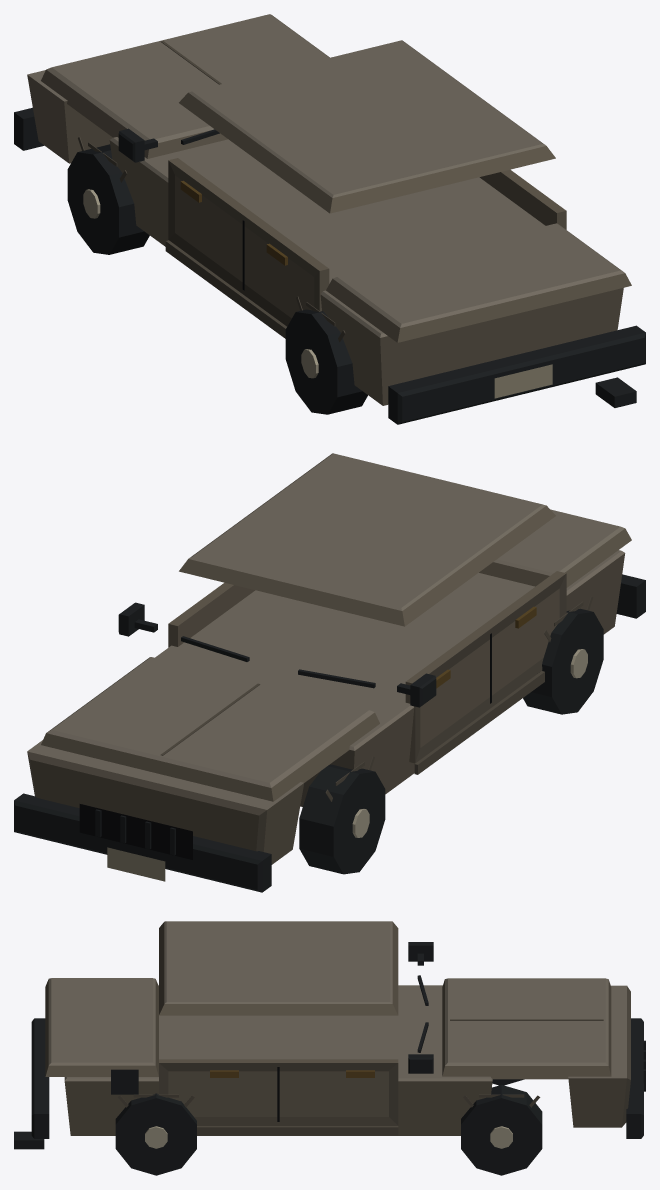
Rendered from lp_player_car_shell.glb.
3 renders of one model, top to bottom at view 1: azimuth 30°, elevation 25°; view 2: azimuth 150°, elevation 25°; view 3: azimuth 270°, elevation 25°, orthographic. The views are drawn at different scales.
Parts seen in each view (by area): view 1: lp_player_car_shell; view 2: lp_player_car_shell; view 3: lp_player_car_shell.
Boxes of the visible parts, x1,y1,x2,y2 form: lp_player_car_shell: (14, 14, 645, 424); lp_player_car_shell: (14, 453, 645, 892); lp_player_car_shell: (14, 921, 645, 1175).
Bounding box in the file's own units: 2.2 × 1.42 × 5.02.
Materials: 1 (1 with a texture image).
